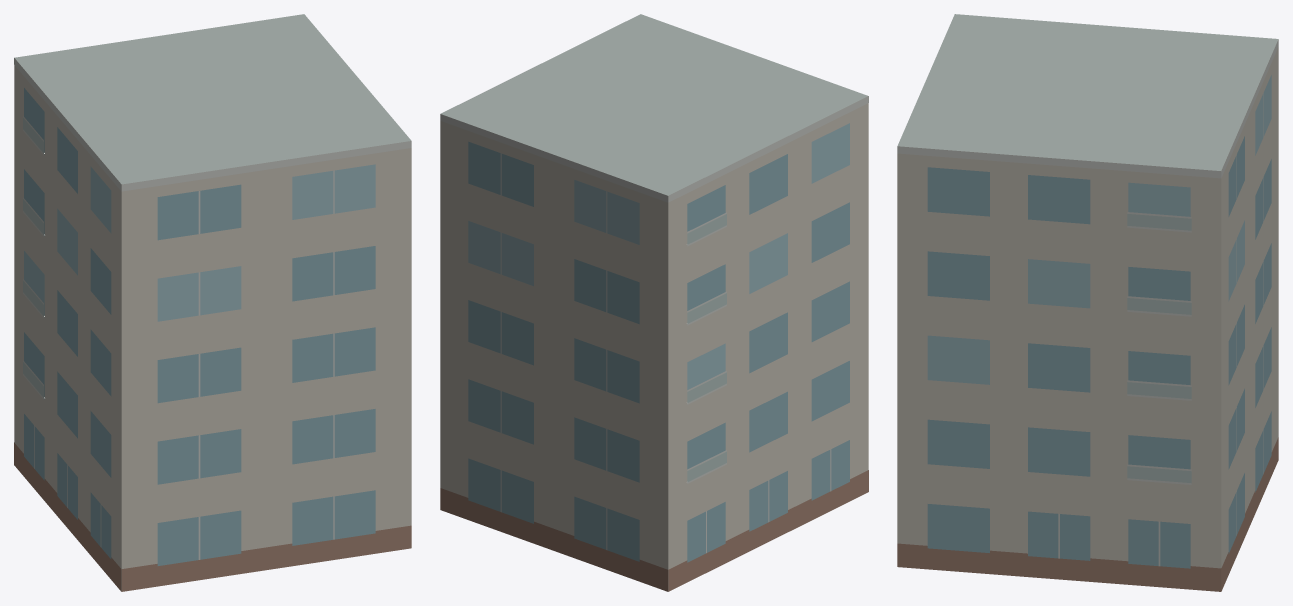
File: survey-upis-32665123.glb
3 views of the same model, side by side, from view 1: azimuth 30°, elevation 25°; view 2: azimuth 150°, elevation 25°; view 3: azimuth 270°, elevation 25° (orthographic). The views are drawn at different scales.
Parts seen in each view (by area): view 1: survey-upis-32665123.tmp; view 2: survey-upis-32665123.tmp; view 3: survey-upis-32665123.tmp.
Part boxes in pixels (bbox=[...]): survey-upis-32665123.tmp: bbox=[14, 14, 411, 591]; survey-upis-32665123.tmp: bbox=[440, 14, 868, 591]; survey-upis-32665123.tmp: bbox=[897, 14, 1278, 591].
Size of the model in its own units: 11.26 by 14.05 by 11.55.
